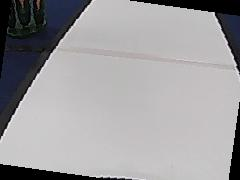corn: (4, 0, 49, 37)
